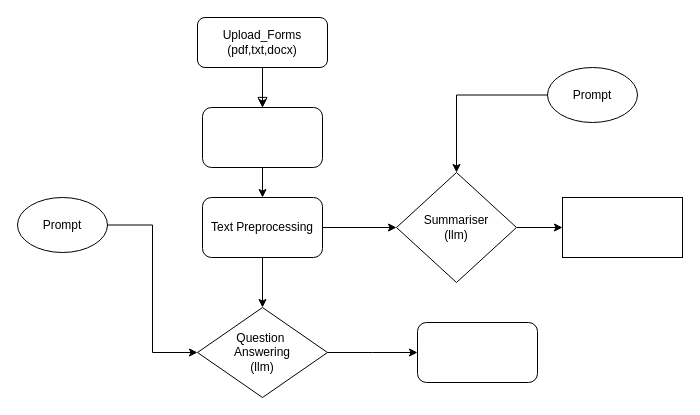
The diagram is 700 pixels wide and 415 high, and some of its shapes have lost their labels. Each missing label, with the box of its shape:
Answer LLm Outout: (416, 322, 538, 382)
Extract Text: (202, 106, 322, 168)
Text Summary: (562, 196, 682, 258)
